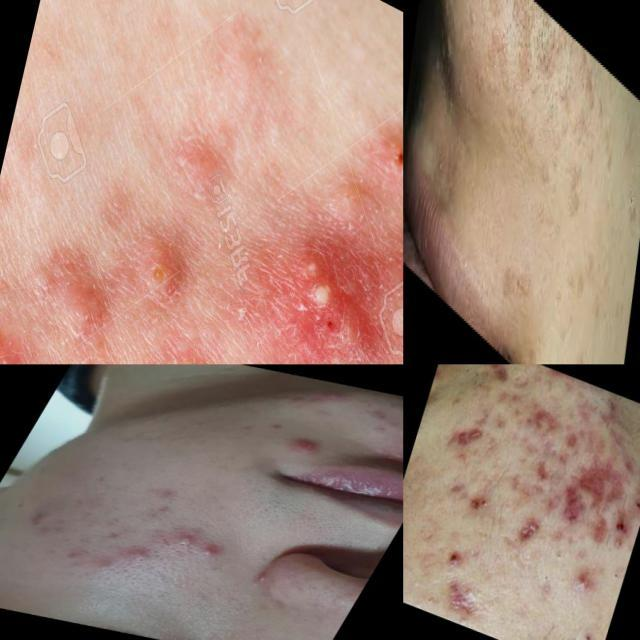Pimples: (274, 228, 388, 364), (578, 443, 630, 511), (440, 572, 493, 630), (276, 421, 336, 460), (520, 398, 566, 447), (522, 448, 566, 498), (0, 303, 35, 364), (552, 480, 588, 531), (585, 504, 619, 556), (158, 522, 212, 554), (514, 505, 546, 557), (445, 414, 481, 457), (529, 559, 565, 598), (409, 576, 448, 612), (82, 548, 128, 576), (442, 472, 474, 510), (120, 543, 160, 571), (196, 538, 238, 564), (549, 530, 580, 564), (450, 364, 480, 394), (604, 556, 624, 592), (487, 364, 518, 384)
